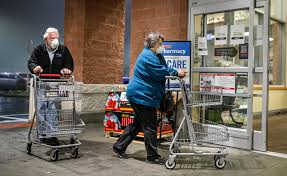Good: (27, 27, 186, 77)
